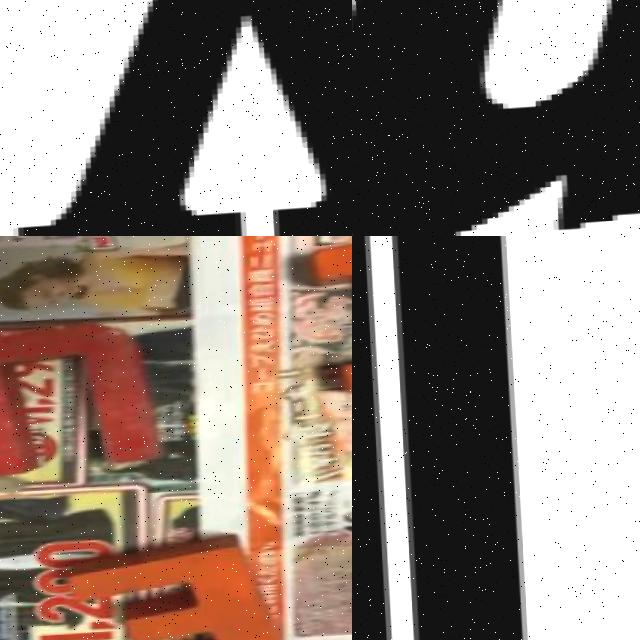E: (60, 545, 281, 640)
I: (300, 236, 352, 400)
M: (352, 236, 555, 640)
N: (352, 0, 640, 236)
U: (0, 324, 149, 479)
V: (0, 0, 352, 236)
